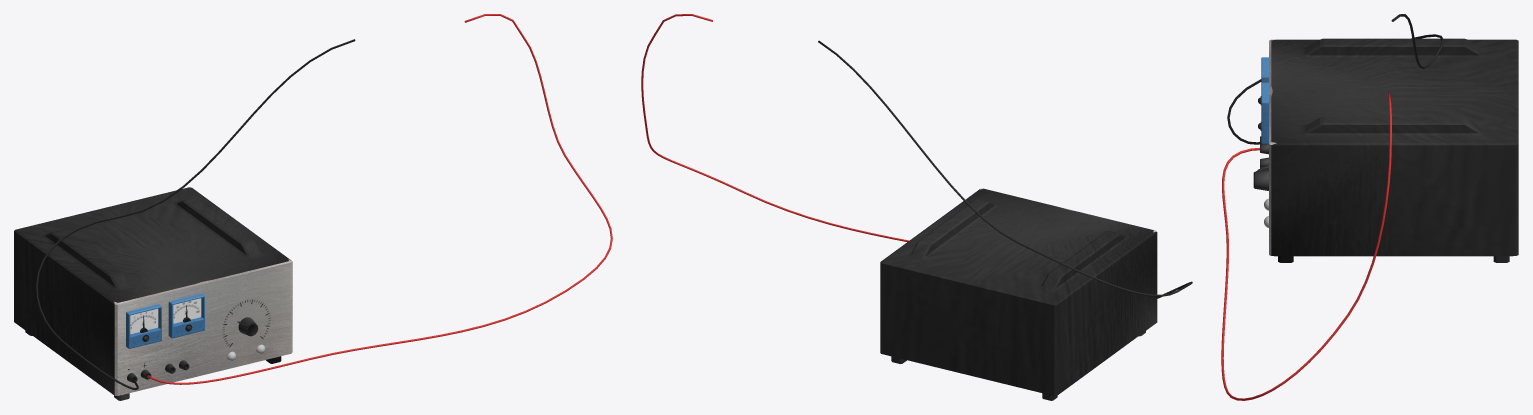
File: device.fbx
3 views of the same model, side by side, from view 1: azimuth 30°, elevation 25°; view 2: azimuth 150°, elevation 25°; view 3: azimuth 270°, elevation 25° (orthographic). The views are drawn at different scales.
Visible parts, largest first — view 1: Прибор, BezierCurve.002, BezierCurve.001, Pointer.003, Pointer.002, Cube.006, scale.003, scale.002; view 2: Прибор, BezierCurve.001, BezierCurve.002; view 3: Прибор, BezierCurve.002, BezierCurve.001, Cube.006, Pointer.003.
Boxes of the visible parts, x1=… form: Прибор: x1=14, y1=187, x2=292, y2=400; BezierCurve.002: x1=147, y1=14, x2=612, y2=384; BezierCurve.001: x1=36, y1=39, x2=355, y2=389; Pointer.003: x1=168, y1=293, x2=204, y2=338; Pointer.002: x1=126, y1=304, x2=161, y2=348; Cube.006: x1=127, y1=317, x2=258, y2=382; scale.003: x1=173, y1=298, x2=201, y2=323; scale.002: x1=130, y1=308, x2=158, y2=334; Прибор: x1=880, y1=188, x2=1157, y2=400; BezierCurve.001: x1=818, y1=40, x2=1192, y2=298; BezierCurve.002: x1=641, y1=14, x2=908, y2=241; Прибор: x1=1269, y1=38, x2=1518, y2=262; BezierCurve.002: x1=1221, y1=92, x2=1391, y2=400; BezierCurve.001: x1=1227, y1=14, x2=1444, y2=144; Cube.006: x1=1253, y1=136, x2=1268, y2=190; Pointer.003: x1=1258, y1=82, x2=1268, y2=144.
Bounding box in the file's own units: 6.03 × 2.79 × 2.38.
8 materials, 7 textured.
